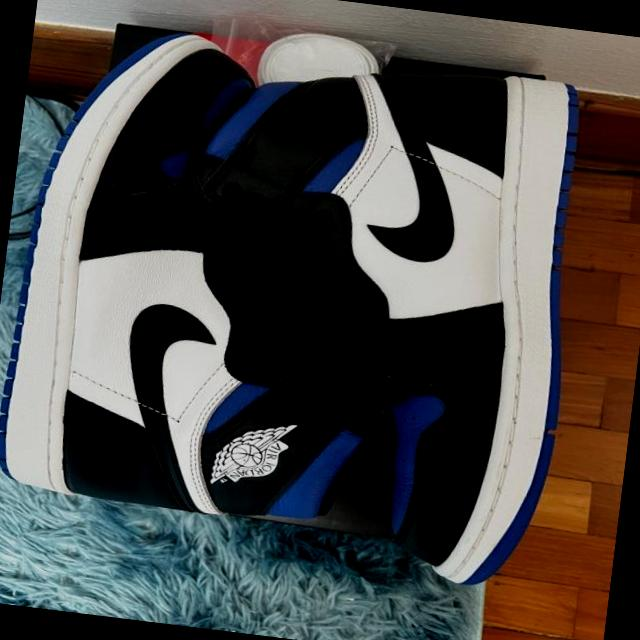nike_original_jordan: (142, 36, 600, 603), (0, 16, 434, 535)
